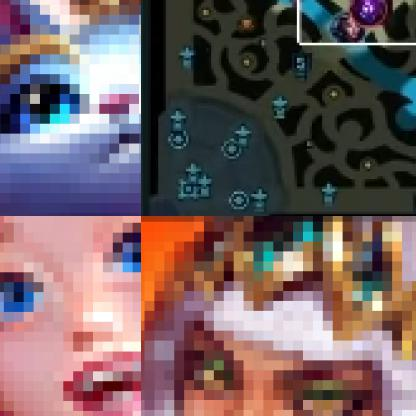Leblanc: (330, 12, 368, 47)
Malzahar: (349, 0, 390, 27)
Qiyana: (141, 216, 415, 415)
Seraphine: (0, 216, 140, 415)
Yuumi: (0, 0, 140, 215)
